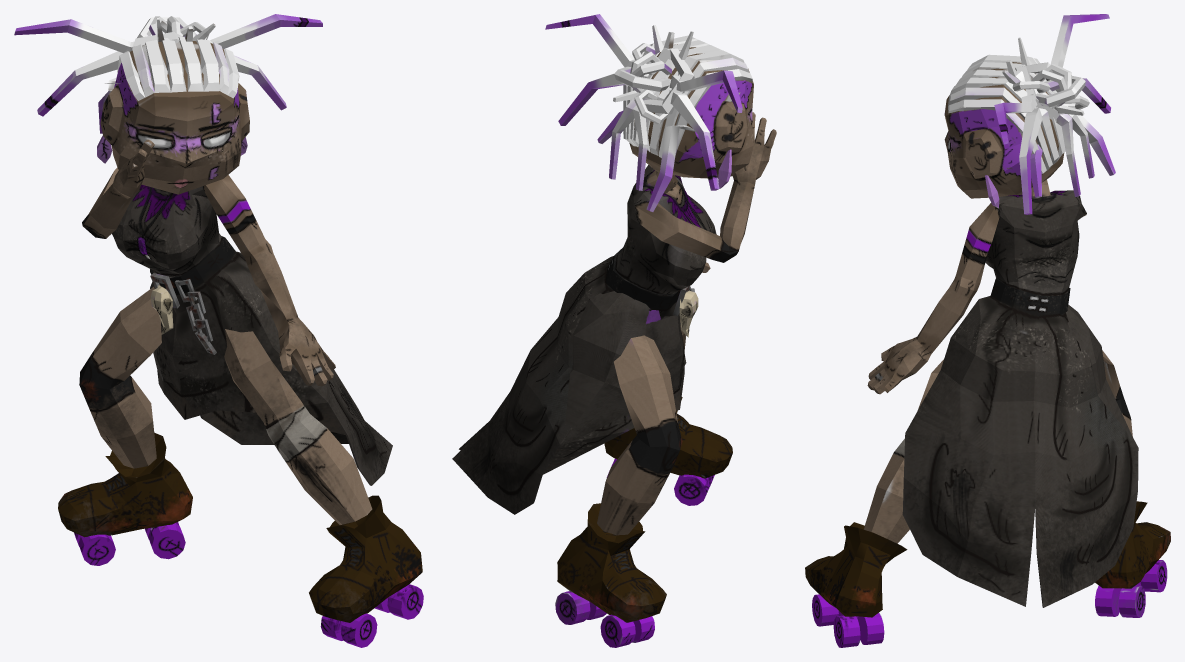
The model's file is bruja_000053.obj.
3 views of the same model, side by side, from view 1: azimuth 30°, elevation 25°; view 2: azimuth 150°, elevation 25°; view 3: azimuth 270°, elevation 25° (orthographic). The views are drawn at different scales.
Parts seen in each view (by area): view 1: Bruja_Plane.001; view 2: Bruja_Plane.001; view 3: Bruja_Plane.001.
Boxes of the visible parts, x1,y1,x2,y2 form: Bruja_Plane.001: (14, 14, 423, 647); Bruja_Plane.001: (452, 14, 776, 647); Bruja_Plane.001: (805, 14, 1170, 647).
Bounding box in the file's own units: 9.24 × 15.43 × 9.25.
